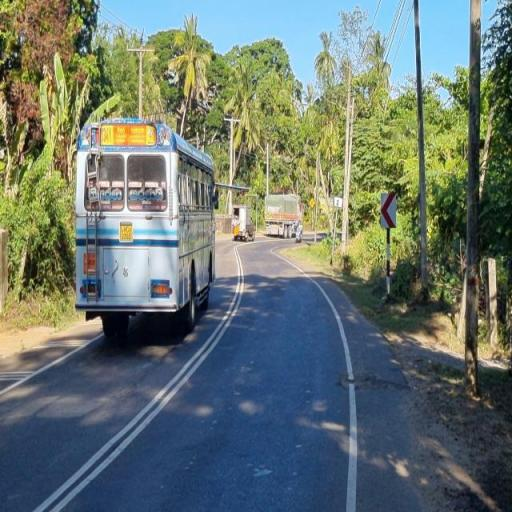double_white_line: (31, 243, 248, 512)
